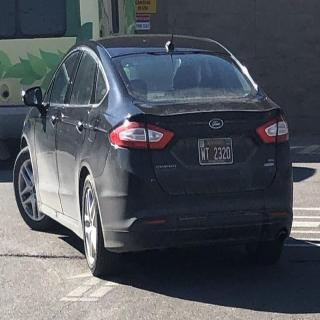license: (199, 138, 234, 166)
